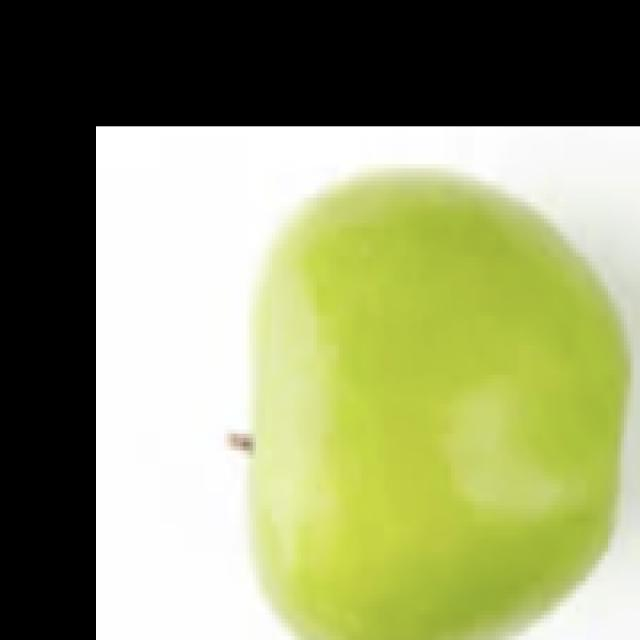Fresh Apple: (231, 190, 640, 640)
